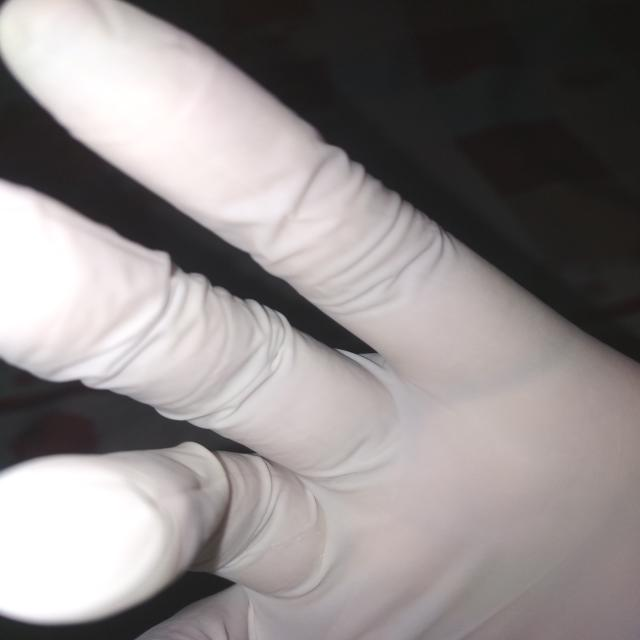glove: (5, 1, 637, 635)
